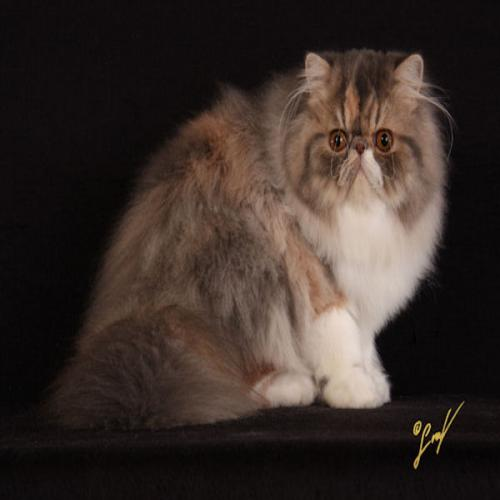persian: (283, 42, 447, 242)
